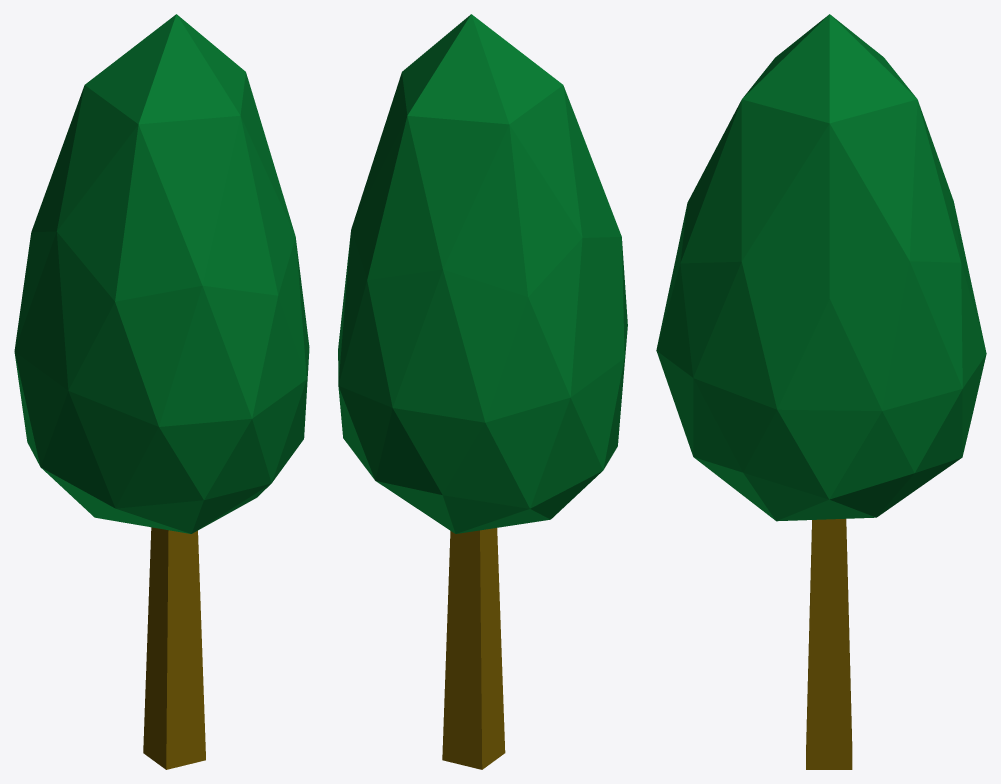
File: SPHEREICAL TREE1.001_Material.032.glb
3 views of the same model, side by side, from view 1: azimuth 30°, elevation 25°; view 2: azimuth 150°, elevation 25°; view 3: azimuth 270°, elevation 25° (orthographic).
Visible parts, largest first — view 1: SPHEREICAL TREE1.001_Material.032_0; view 2: SPHEREICAL TREE1.001_Material.032_0; view 3: SPHEREICAL TREE1.001_Material.032_0.
Boxes of the visible parts, x1=… form: SPHEREICAL TREE1.001_Material.032_0: x1=14, y1=14, x2=309, y2=769; SPHEREICAL TREE1.001_Material.032_0: x1=338, y1=14, x2=627, y2=769; SPHEREICAL TREE1.001_Material.032_0: x1=656, y1=14, x2=986, y2=769.
Size of the model in its own units: 0.3934 by 1.16 by 0.4634.
1 material, 1 textured.
